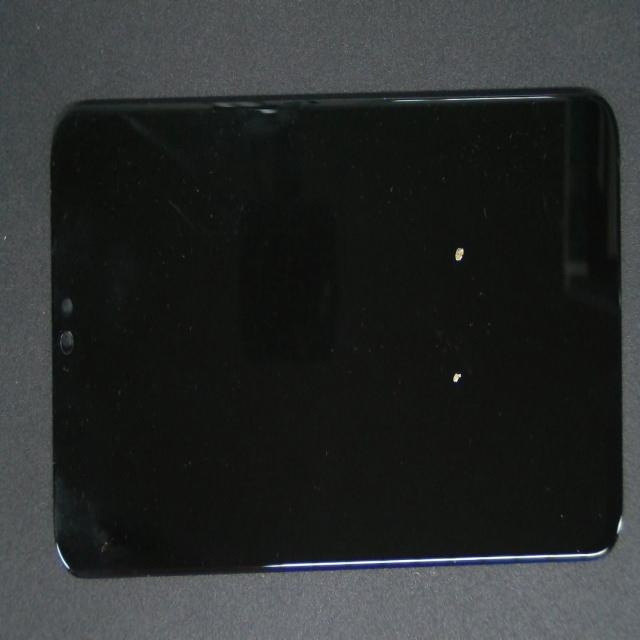stain: (244, 153, 640, 519), (241, 86, 640, 349)
